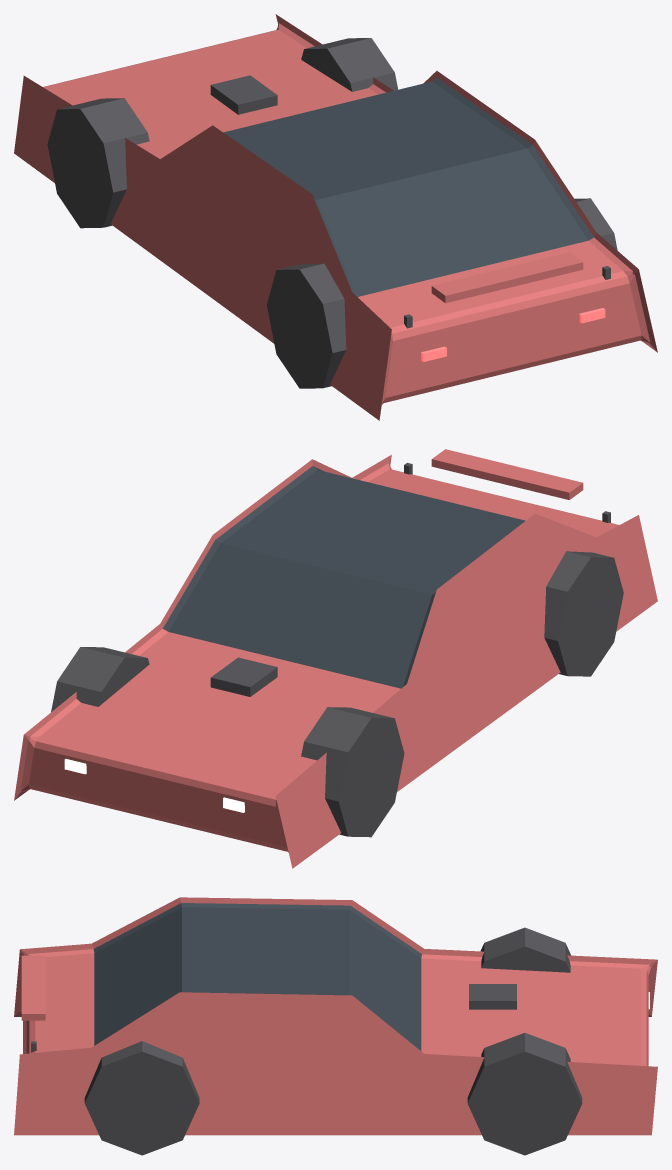
The model's file is car_1_muscle.glb.
3 views of the same model, one above another, from view 1: azimuth 30°, elevation 25°; view 2: azimuth 150°, elevation 25°; view 3: azimuth 270°, elevation 25° (orthographic). The views are drawn at different scales.
Parts seen in each view (by area): view 1: car_1_muscle_body, Arch, Arch.002, Arch.001, Spoiler, Scoop, Arch.003; view 2: car_1_muscle_body, Arch, Arch.002, Arch.001, Spoiler, Scoop; view 3: car_1_muscle_body, Arch.001, Arch.003, Arch, Spoiler, Scoop.
Part boxes in pixels (x1=…): car_1_muscle_body: x1=14, y1=14, x2=657, y2=420; Arch: x1=47, y1=98, x2=149, y2=228; Arch.002: x1=267, y1=263, x2=346, y2=388; Arch.001: x1=301, y1=38, x2=397, y2=91; Spoiler: x1=431, y1=252, x2=583, y2=303; Scoop: x1=210, y1=75, x2=277, y2=114; Arch.003: x1=574, y1=198, x2=617, y2=250; car_1_muscle_body: x1=14, y1=454, x2=657, y2=868; Arch: x1=301, y1=707, x2=404, y2=837; Arch.002: x1=544, y1=551, x2=623, y2=676; Arch.001: x1=51, y1=647, x2=149, y2=711; Spoiler: x1=431, y1=449, x2=583, y2=499; Scoop: x1=210, y1=657, x2=277, y2=696; car_1_muscle_body: x1=14, y1=897, x2=657, y2=1135; Arch.001: x1=467, y1=1033, x2=582, y2=1155; Arch.003: x1=84, y1=1041, x2=199, y2=1155; Arch: x1=480, y1=927, x2=571, y2=972; Spoiler: x1=21, y1=955, x2=45, y2=1020; Scoop: x1=469, y1=984, x2=516, y2=1009.
Size of the model in its own units: 1.84 by 1.03 by 4.04.
